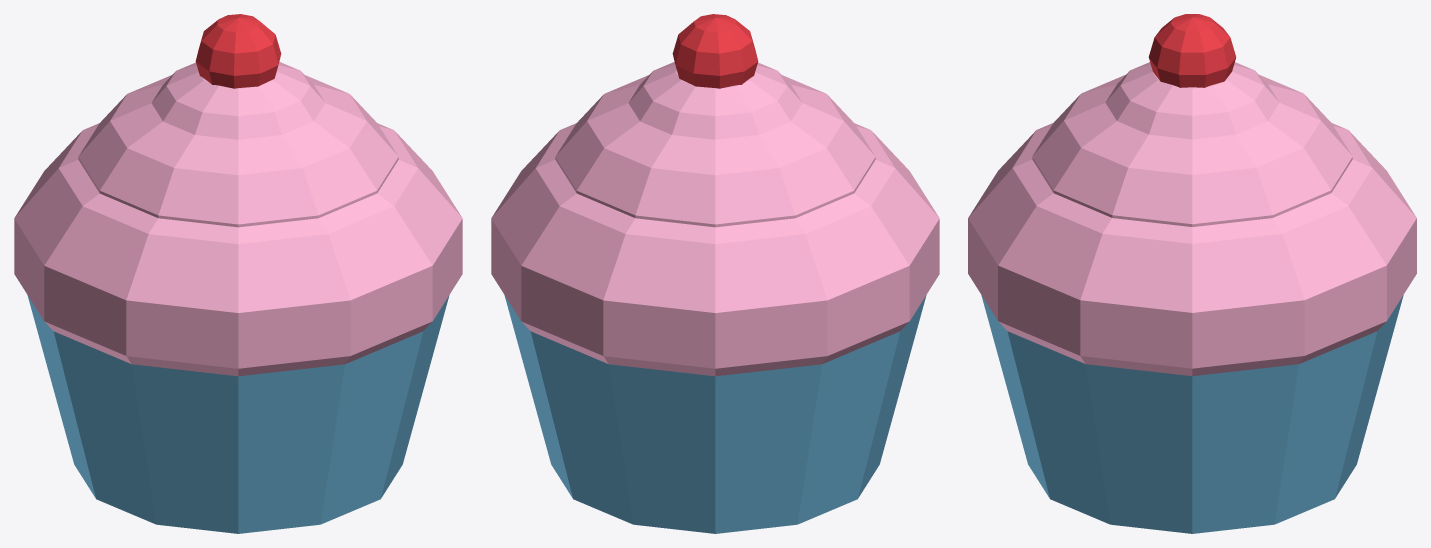
The model's file is Cupcake.fbx.
3 renders of one model, left to right at view 1: azimuth 30°, elevation 25°; view 2: azimuth 150°, elevation 25°; view 3: azimuth 270°, elevation 25°, orthographic.
Parts seen in each view (by area): view 1: Frosting, Wrapper, Berry; view 2: Frosting, Wrapper, Berry; view 3: Frosting, Wrapper, Berry.
Part boxes in pixels (x1,y1,x2,y2): Frosting: (14,62,462,376); Wrapper: (27,295,449,533); Berry: (195,14,281,88); Frosting: (491,62,939,376); Wrapper: (504,295,926,533); Berry: (672,14,758,88); Frosting: (968,62,1416,376); Wrapper: (981,295,1403,533); Berry: (1148,14,1236,87).
Bounding box in the file's own units: 2.05 × 2.25 × 2.05.
